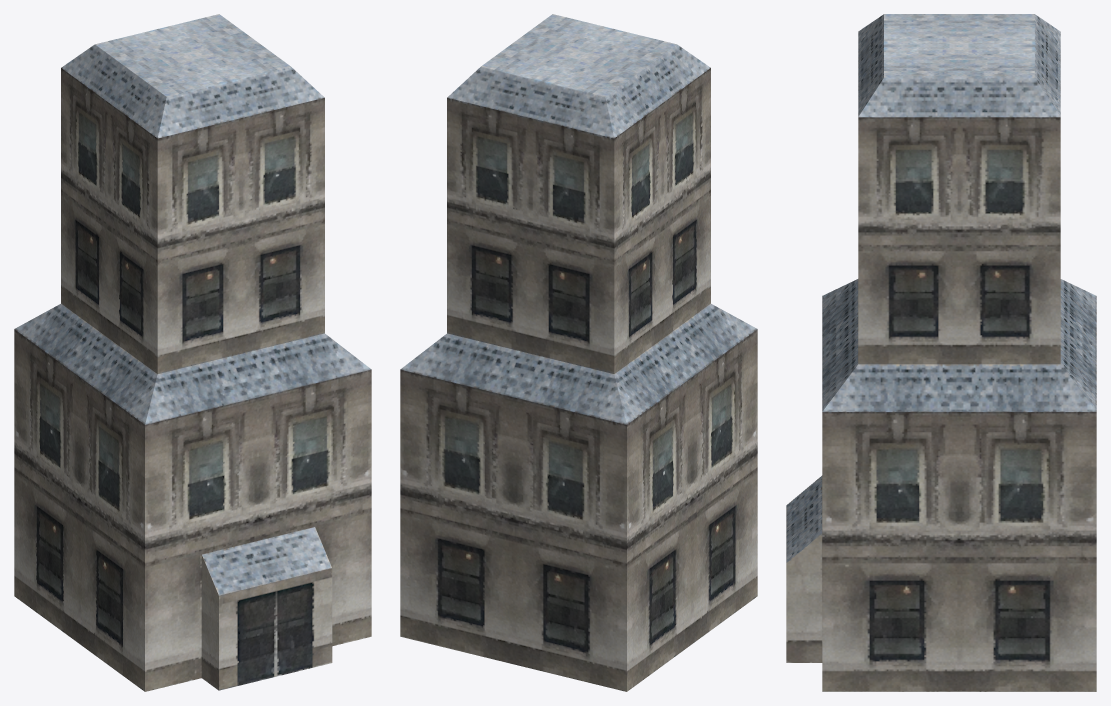
Rendered from TallHouse.fbx.
3 views of the same model, side by side, from view 1: azimuth 30°, elevation 25°; view 2: azimuth 150°, elevation 25°; view 3: azimuth 270°, elevation 25° (orthographic). The views are drawn at different scales.
Parts seen in each view (by area): view 1: TallBuilding; view 2: TallBuilding; view 3: TallBuilding.
Part boxes in pixels (box(x1,y1,x2,y2)): TallBuilding: box(14, 14, 371, 691); TallBuilding: box(400, 14, 757, 691); TallBuilding: box(786, 14, 1096, 691).
Bounding box in the file's own units: 800 × 1892 × 905.
